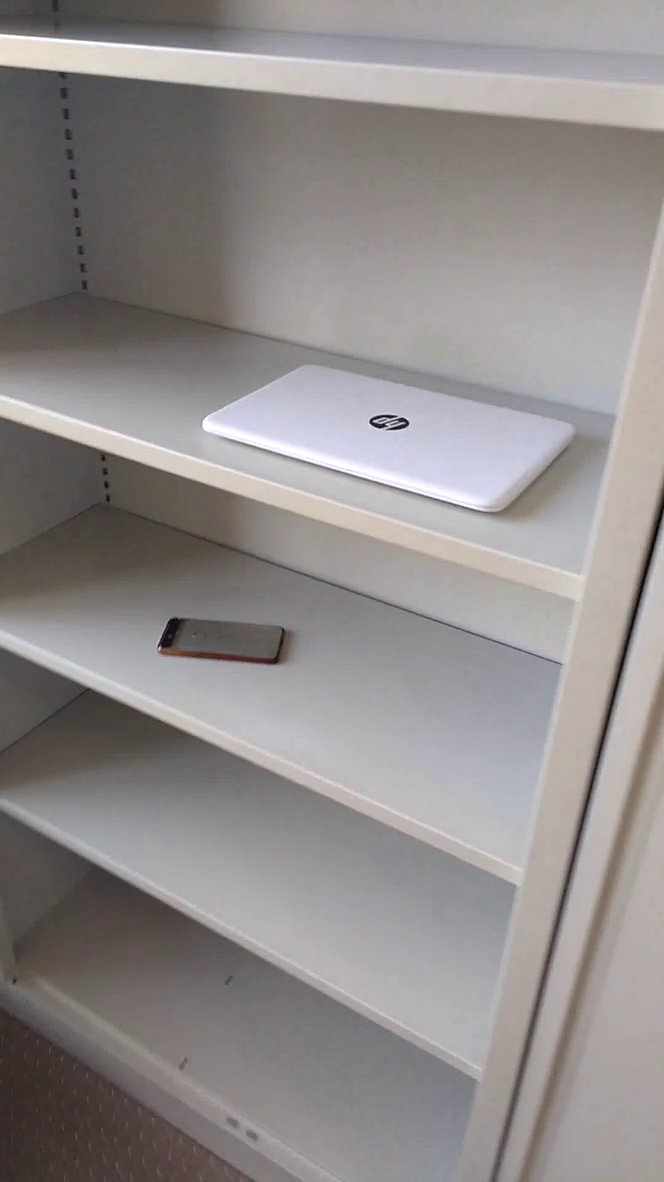laptop: (191, 351, 591, 537)
phone: (152, 611, 292, 676)
